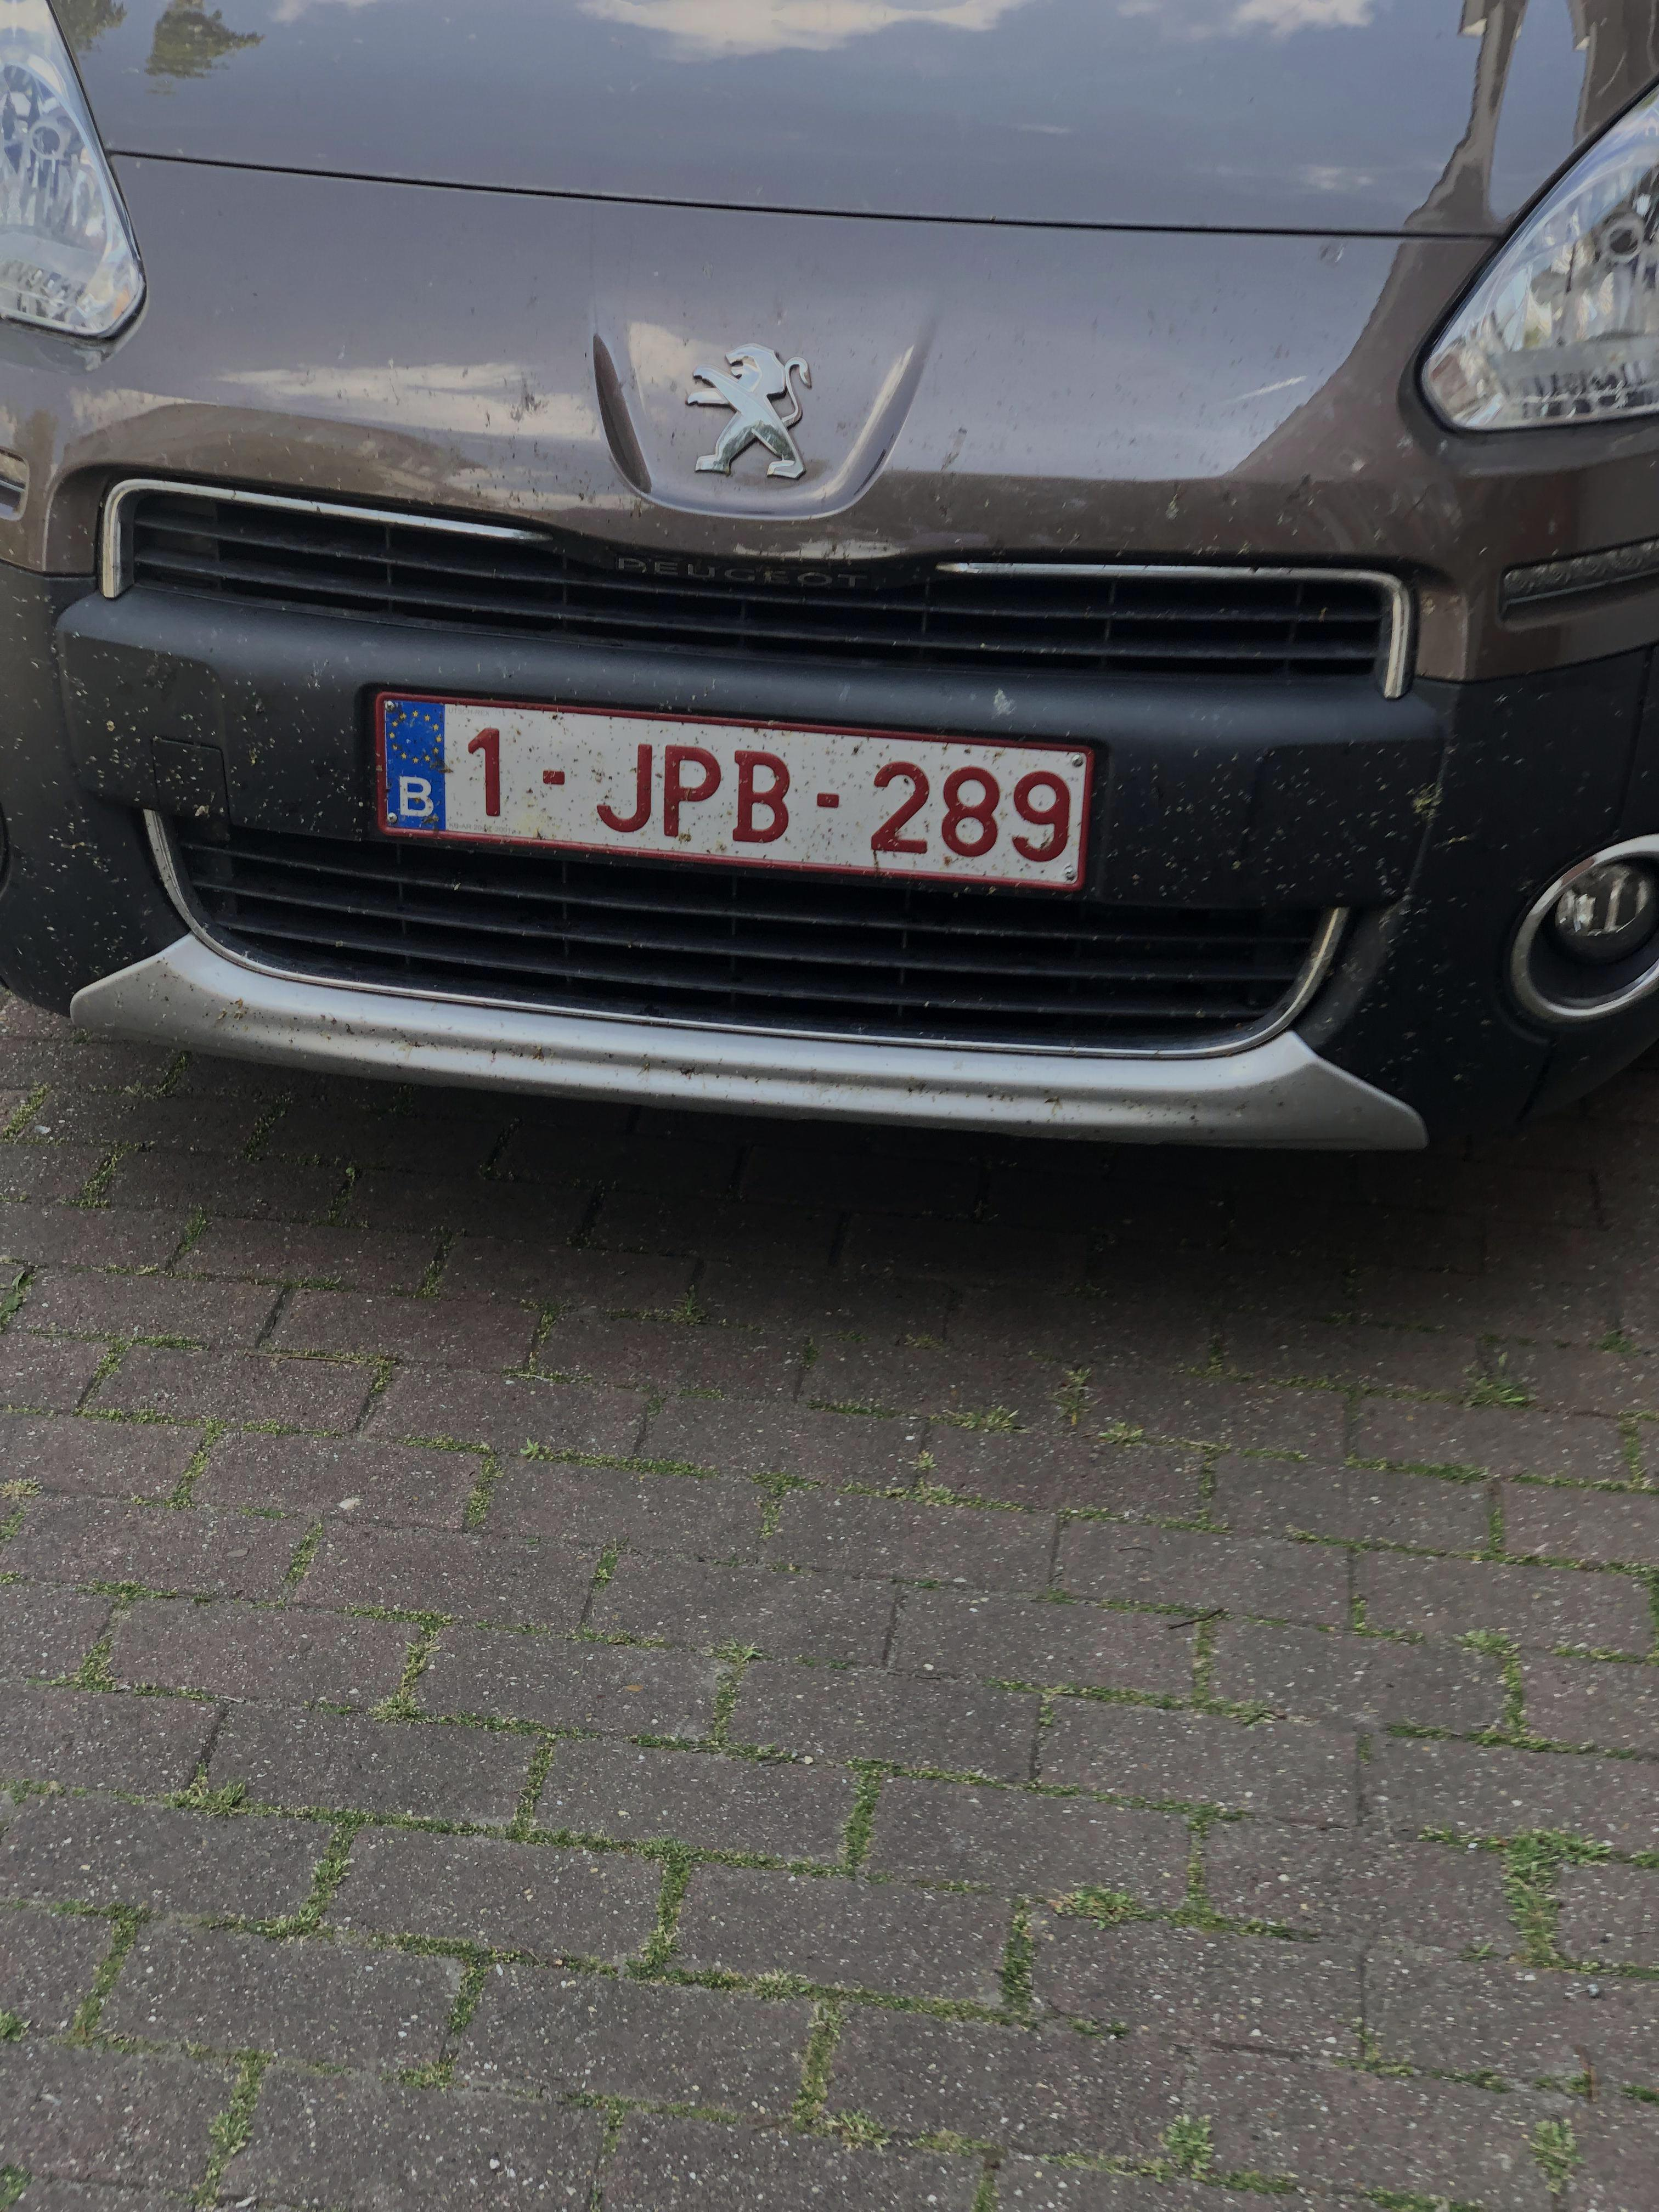plate: (350, 668, 1121, 919)
